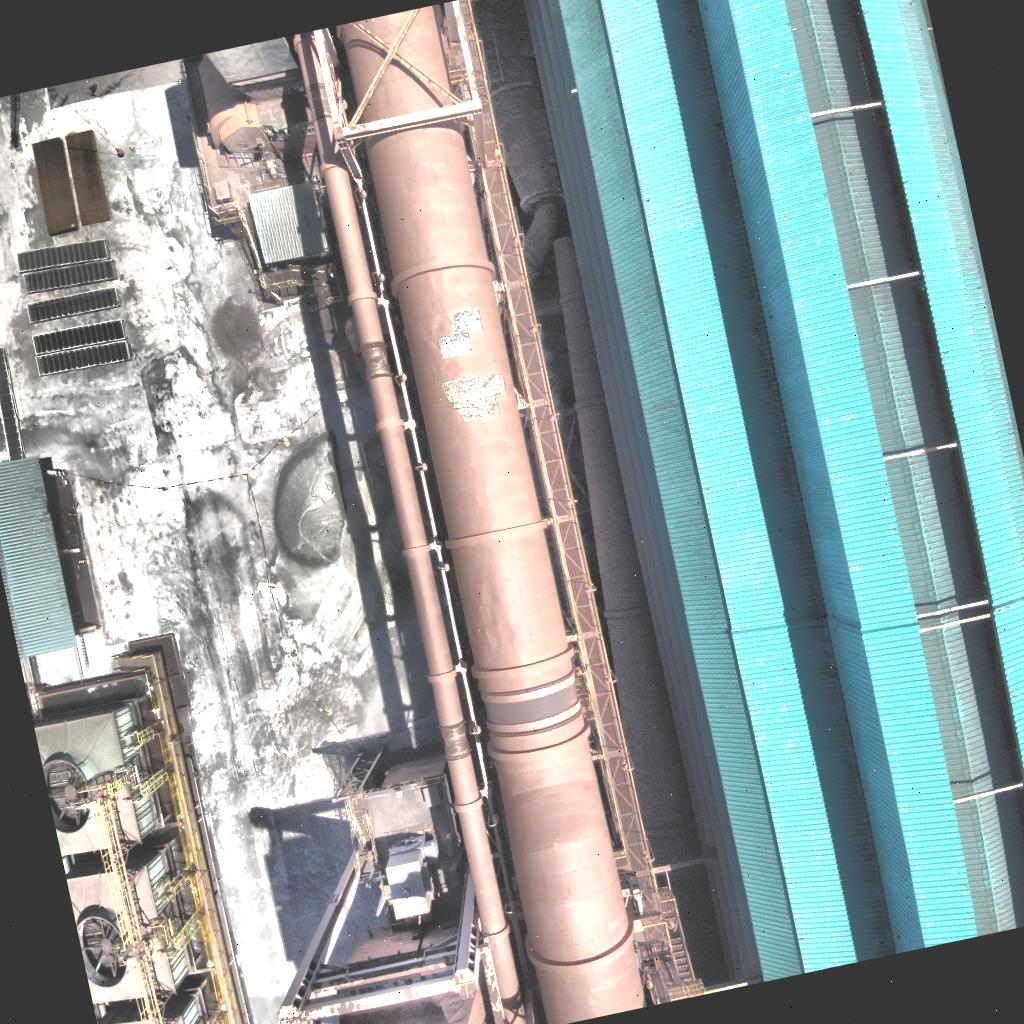Failures: (439, 366, 513, 429), (431, 305, 490, 363), (261, 111, 320, 155)
